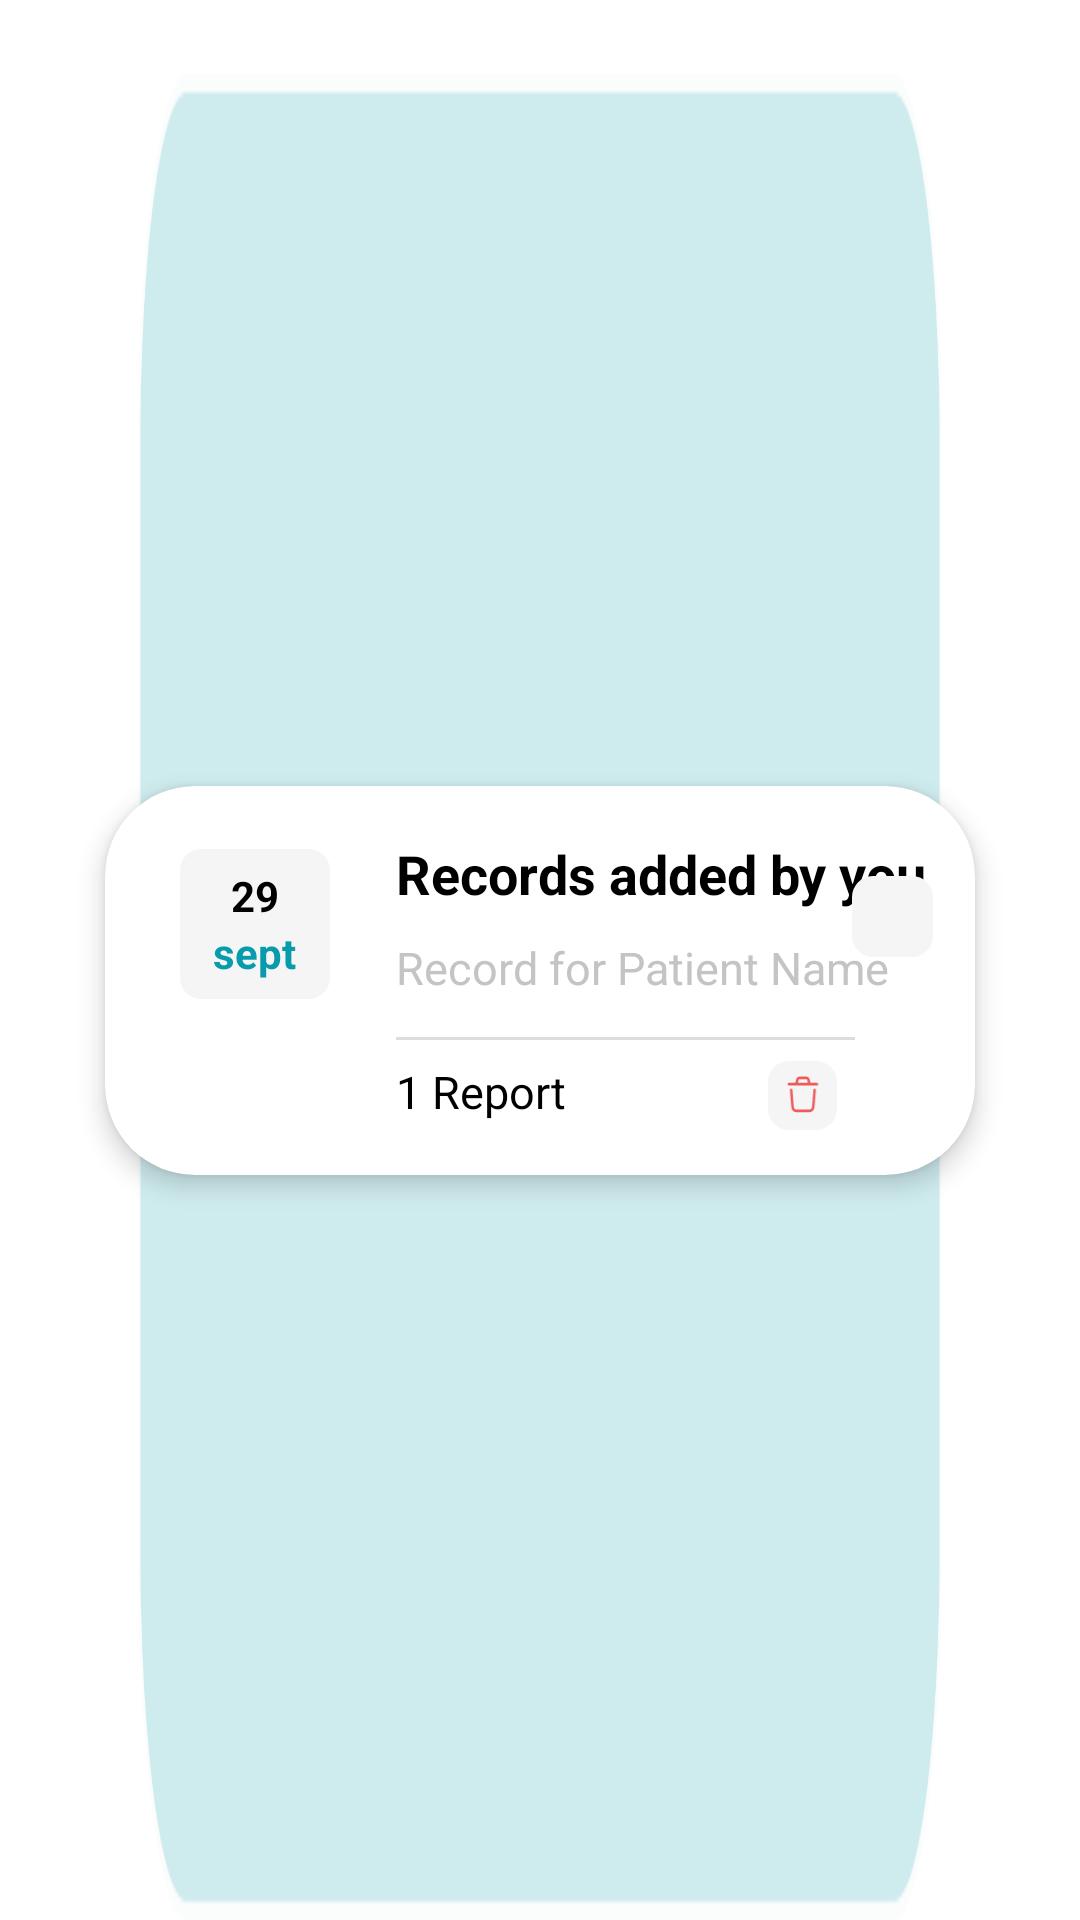

Icons on this 1080px×1920px Android screen, each with the point to tap as [x,y]:
delete: [803,1094]
